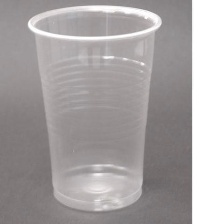glass: (24, 1, 167, 217)
